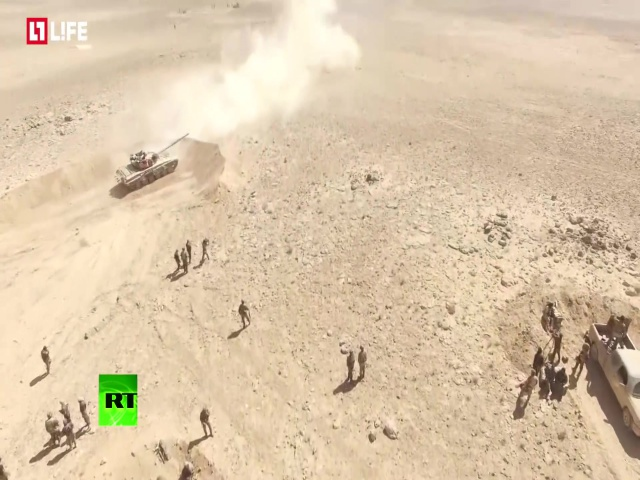person: (516, 371, 539, 407), (44, 411, 63, 449), (571, 342, 590, 378), (75, 395, 93, 433), (198, 404, 213, 443), (61, 418, 77, 450), (343, 349, 356, 385), (552, 330, 564, 366), (238, 298, 251, 330), (532, 345, 547, 372), (357, 344, 368, 380), (40, 343, 52, 375), (58, 400, 73, 424), (172, 248, 183, 274), (200, 236, 210, 262), (179, 248, 188, 274), (184, 239, 193, 262)
vehicle: (585, 316, 640, 440), (110, 142, 179, 190)
